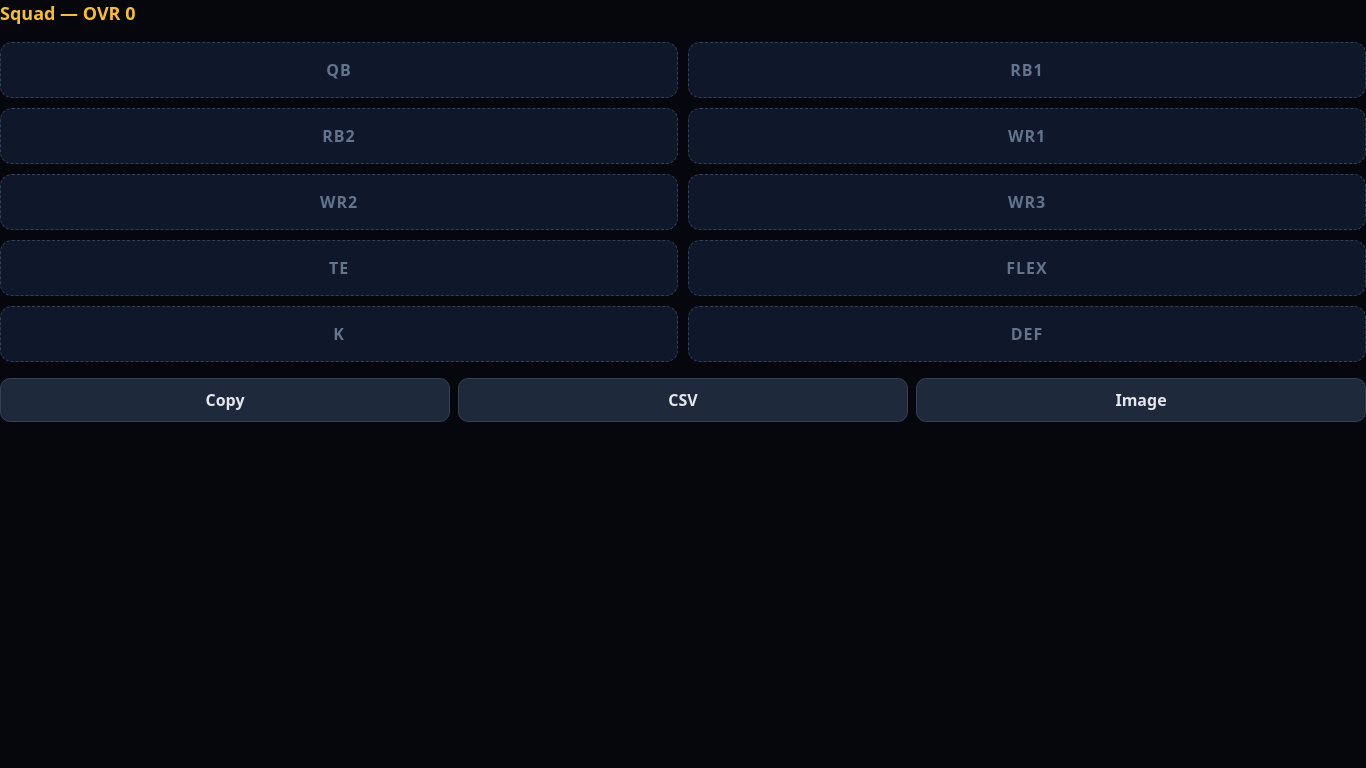
it: Squad screen › a card assigned to one slot is not offered for another slot
Click the button with test id "slot-WR1" at (1027, 136), box [688, 108, 1365, 164]
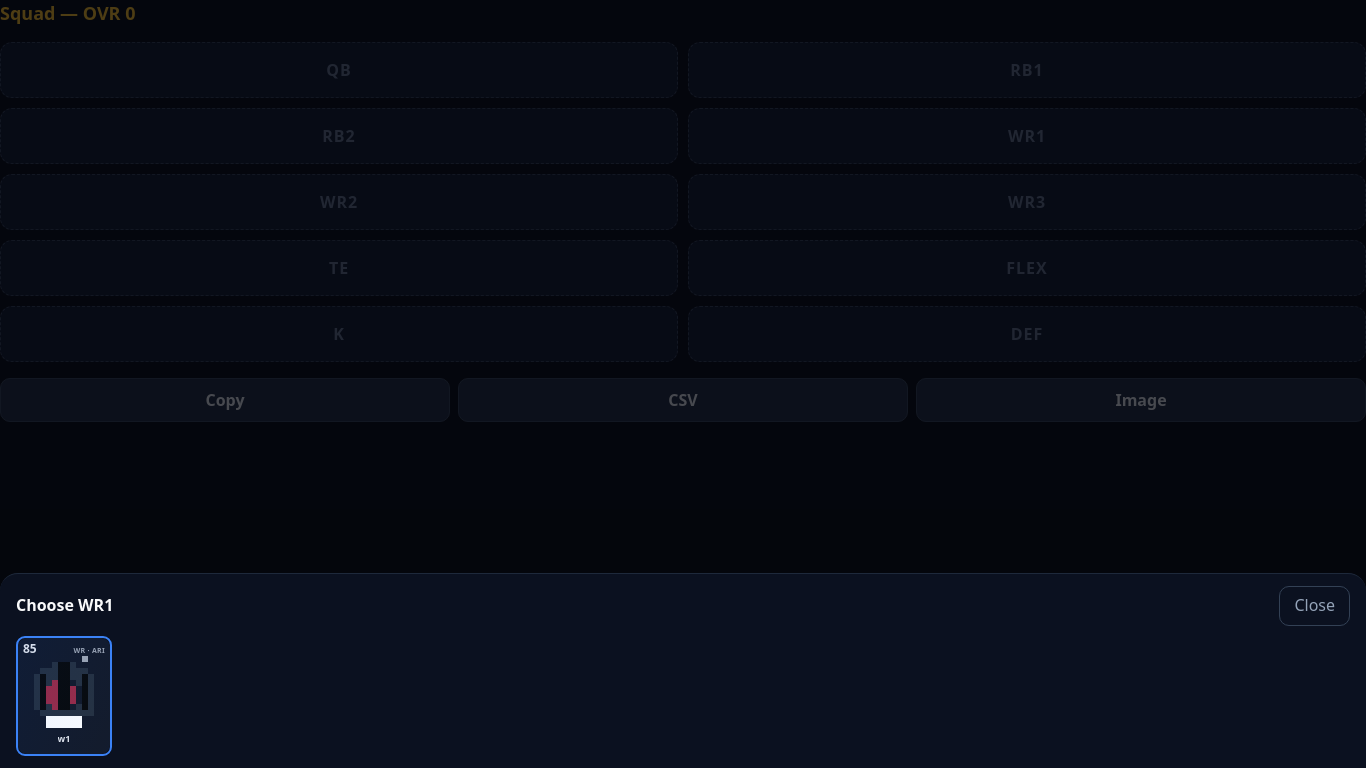
Click the button with test id "pick-w1" at (73, 696), box [16, 636, 130, 756]
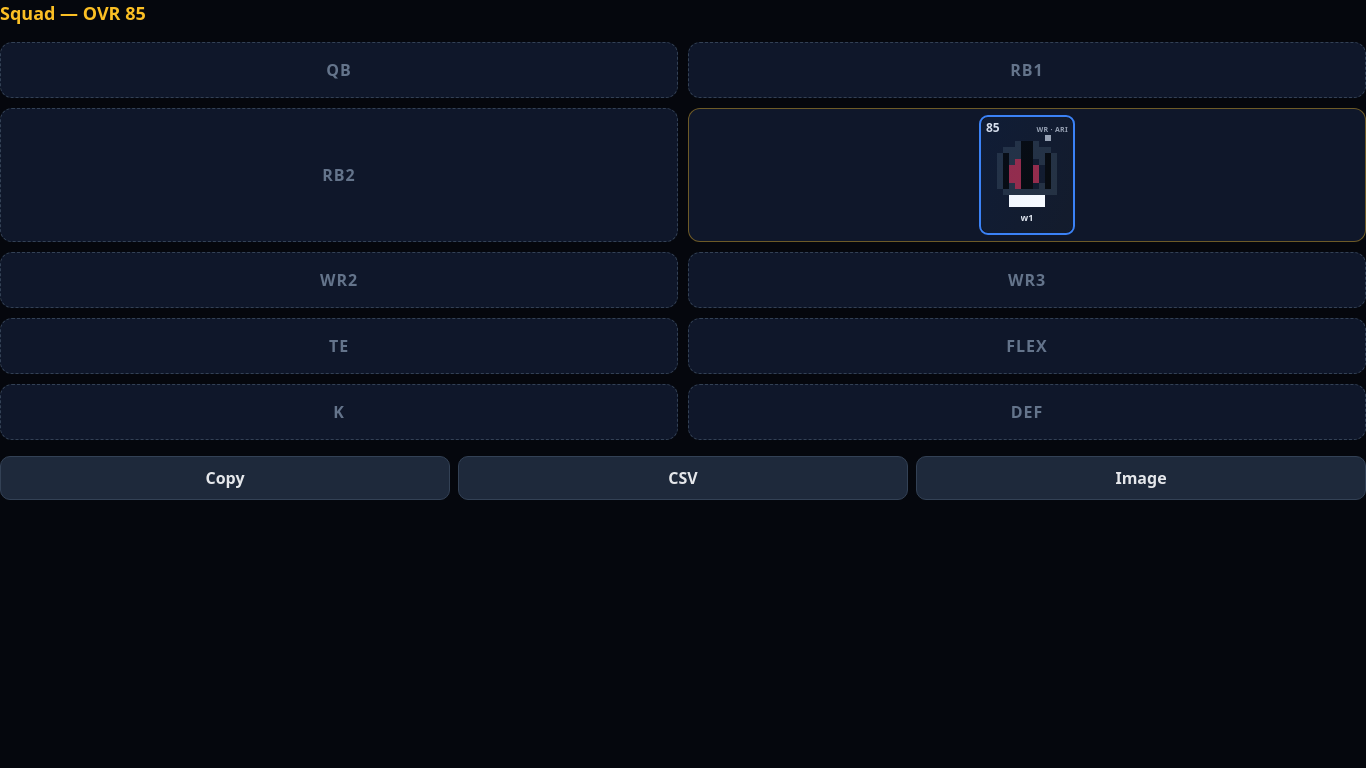
Click the button with test id "slot-WR2" at (339, 280), box [0, 252, 678, 308]
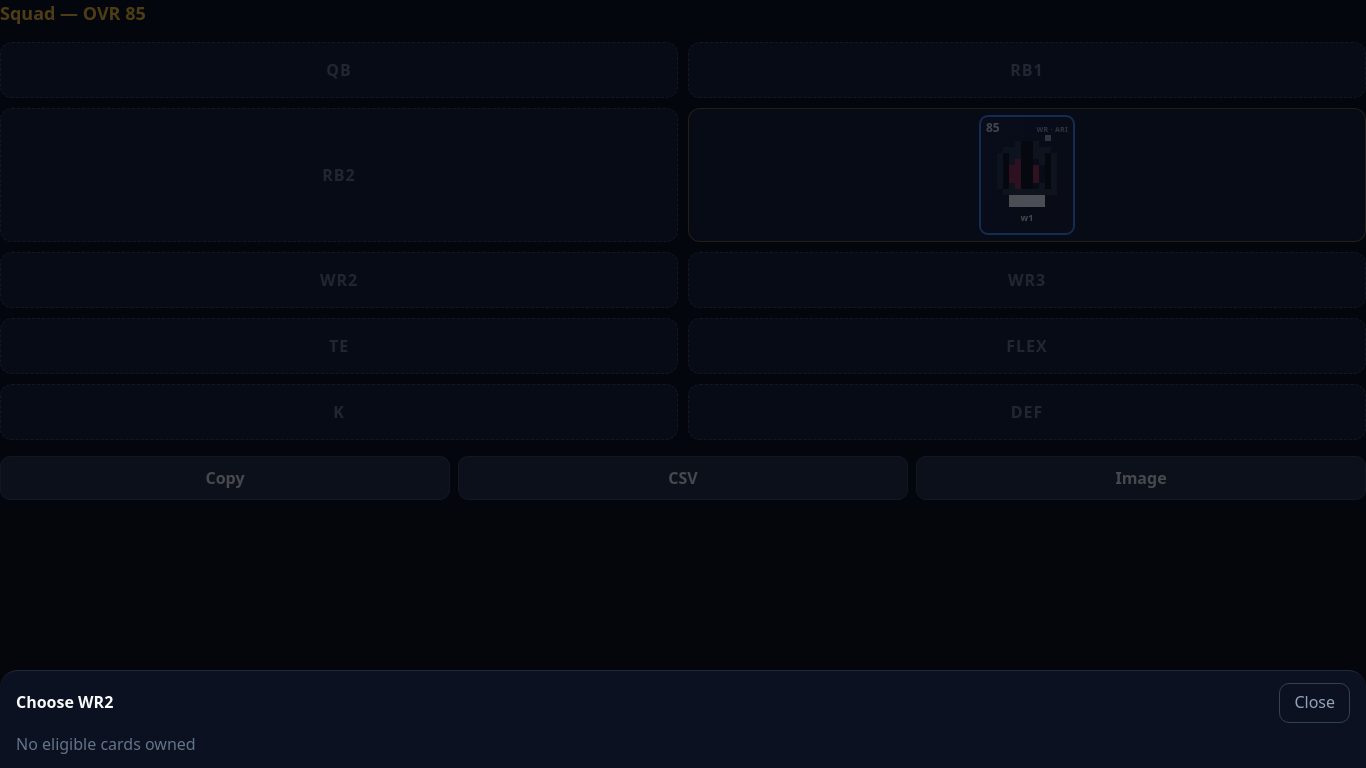
Click the button with test id "picker-close" at (1315, 703), box [1279, 683, 1350, 723]
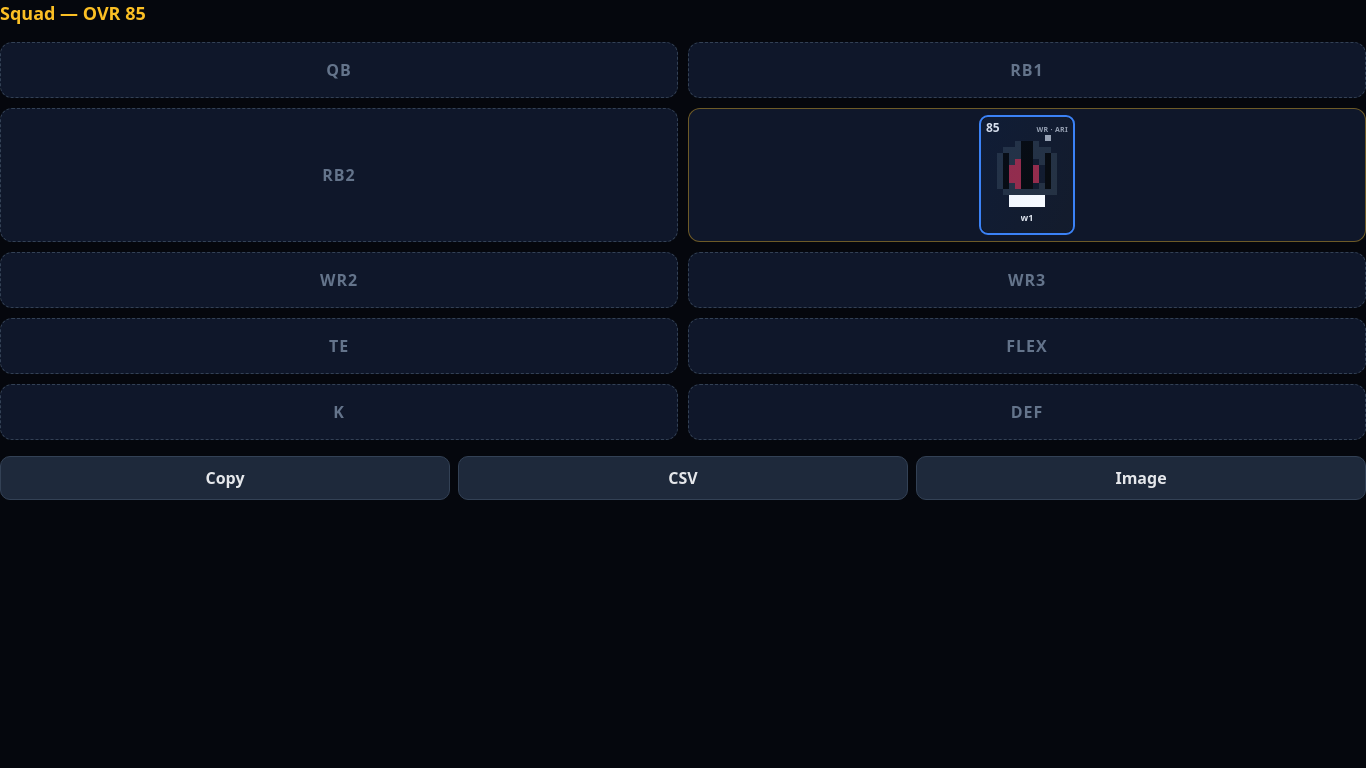
Click the button with test id "slot-WR1" at (1027, 175), box [688, 108, 1365, 242]
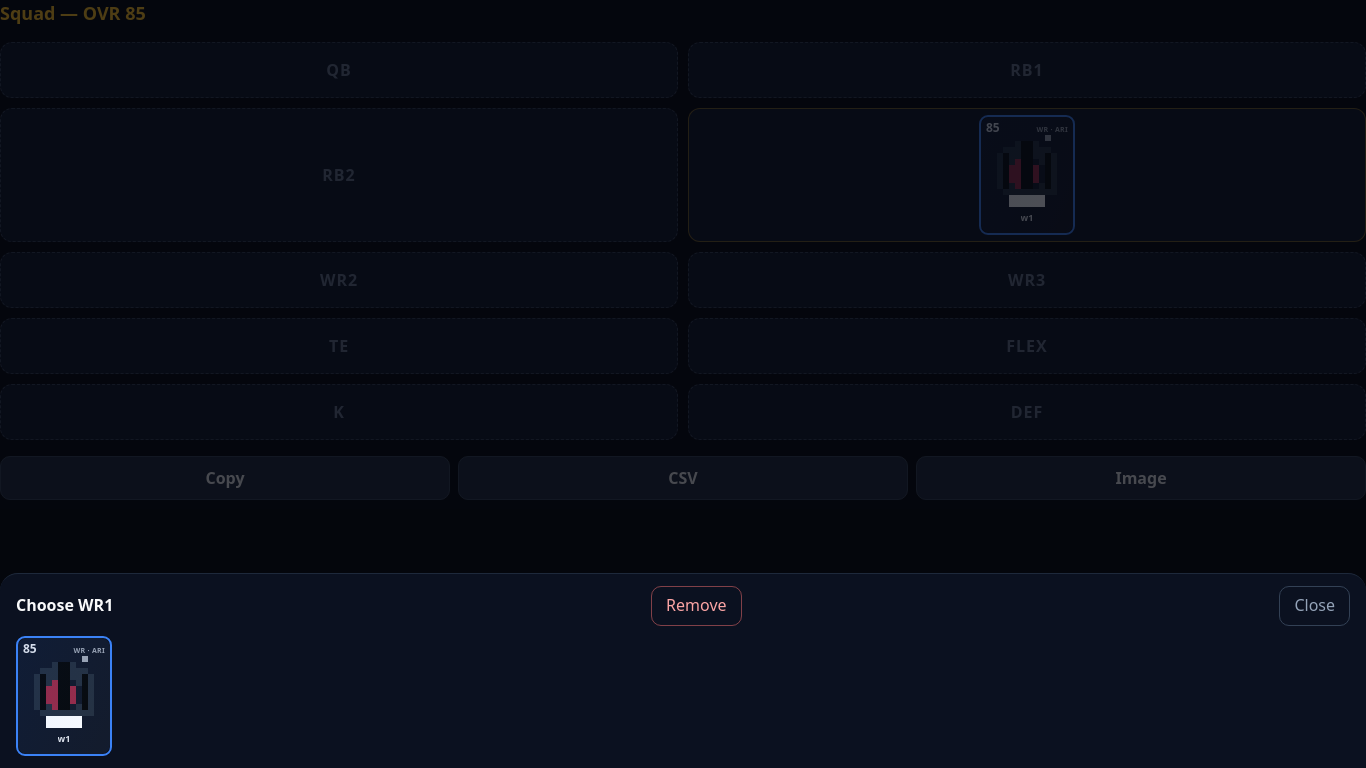
expect the button with test id "pick-w1" is shown: met, box [16, 636, 130, 756]
